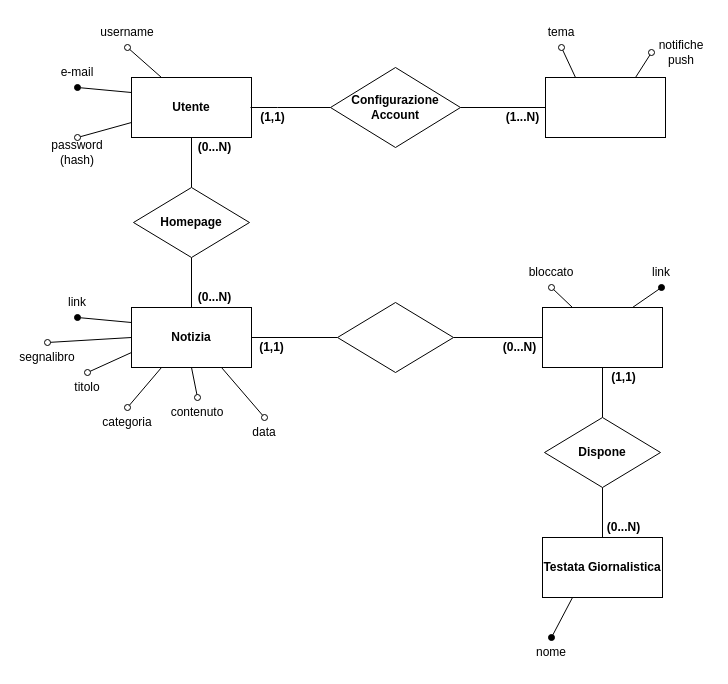
Some shapes in this 728 by 684 pixel diagram are drawn without their labels. The shapes that lost their labels are listed below. From the top down, each one's box as (x1, y1, x2, y2) in pixels, then its label:
(544, 76, 666, 138): Impostazioni
(336, 302, 454, 372): Redazione
(542, 306, 662, 368): Feed
